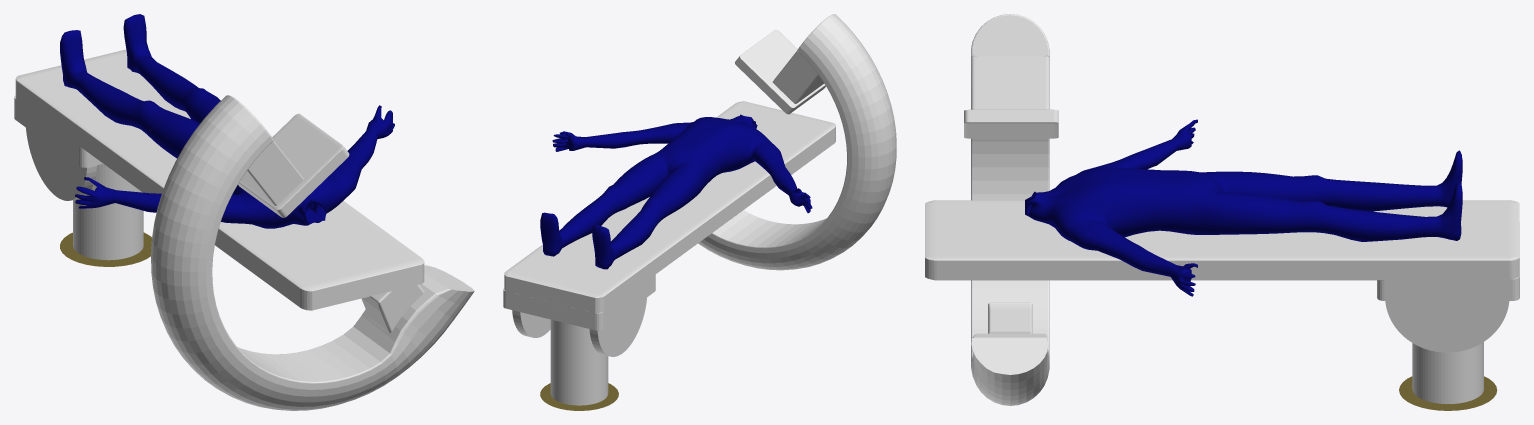
3 views of the same model, side by side, from view 1: azimuth 30°, elevation 25°; view 2: azimuth 150°, elevation 25°; view 3: azimuth 270°, elevation 25° (orthographic). The views are drawn at different scales.
Parts seen in each view (by area): view 1: Arm, Tabletop, Cube.001, Base2, Panel, Base5, Support, Base1, Cube, Base3; view 2: Arm, Tabletop, Cube.001, Base2, Base1, Panel, Base5, Support, Base3, Base4; view 3: Tabletop, Cube.001, Arm, Base4, Support, Base2, Base1, Panel, Cube, Base3.
Part boxes in pixels (bbox=[...]): Arm: bbox=[151, 95, 474, 410]; Tabletop: bbox=[15, 49, 424, 310]; Cube.001: bbox=[60, 14, 394, 228]; Base2: bbox=[73, 164, 143, 260]; Panel: bbox=[238, 113, 349, 217]; Base5: bbox=[26, 128, 96, 200]; Support: bbox=[240, 140, 303, 205]; Base1: bbox=[14, 95, 102, 167]; Cube: bbox=[361, 284, 424, 333]; Base3: bbox=[60, 232, 151, 266]; Arm: bbox=[698, 14, 896, 270]; Tabletop: bbox=[504, 101, 835, 312]; Cube.001: bbox=[540, 114, 812, 269]; Base2: bbox=[550, 319, 608, 405]; Base1: bbox=[503, 274, 655, 330]; Panel: bbox=[735, 29, 825, 114]; Base5: bbox=[589, 298, 646, 356]; Support: bbox=[772, 51, 824, 103]; Base3: bbox=[540, 383, 618, 410]; Base4: bbox=[512, 310, 550, 337]; Tabletop: bbox=[925, 200, 1519, 280]; Cube.001: bbox=[1025, 119, 1462, 296]; Arm: bbox=[971, 14, 1049, 405]; Base4: bbox=[1385, 301, 1509, 352]; Support: bbox=[971, 56, 1049, 109]; Base2: bbox=[1412, 342, 1483, 403]; Base1: bbox=[1377, 222, 1519, 300]; Panel: bbox=[964, 109, 1058, 138]; Cube: bbox=[988, 302, 1032, 333]; Base3: bbox=[1399, 376, 1497, 410].
Size of the model in its own units: 138 by 131 by 213.
